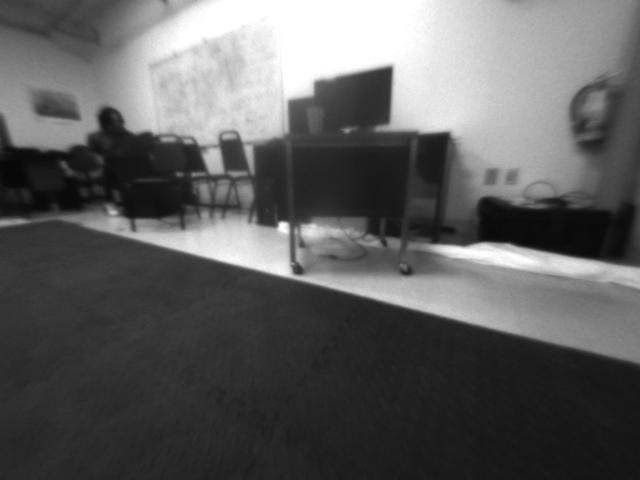coffee_cup: (304, 105, 326, 133)
